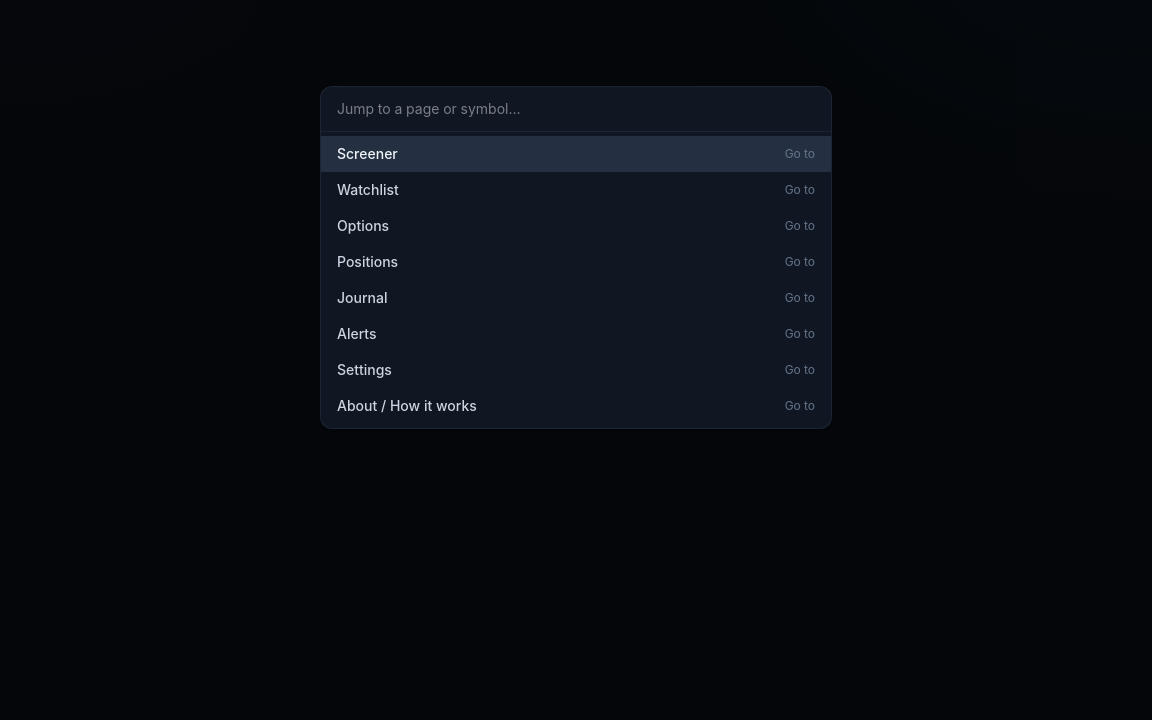
Test: CommandPalette › is hidden until opened, then filters nav items
The width and height of the screenshot is (1152, 720).
Type "posi" into the field with placeholder "Jump to a page or symbol…" at (576, 110), box left=321, top=87, right=831, bottom=132
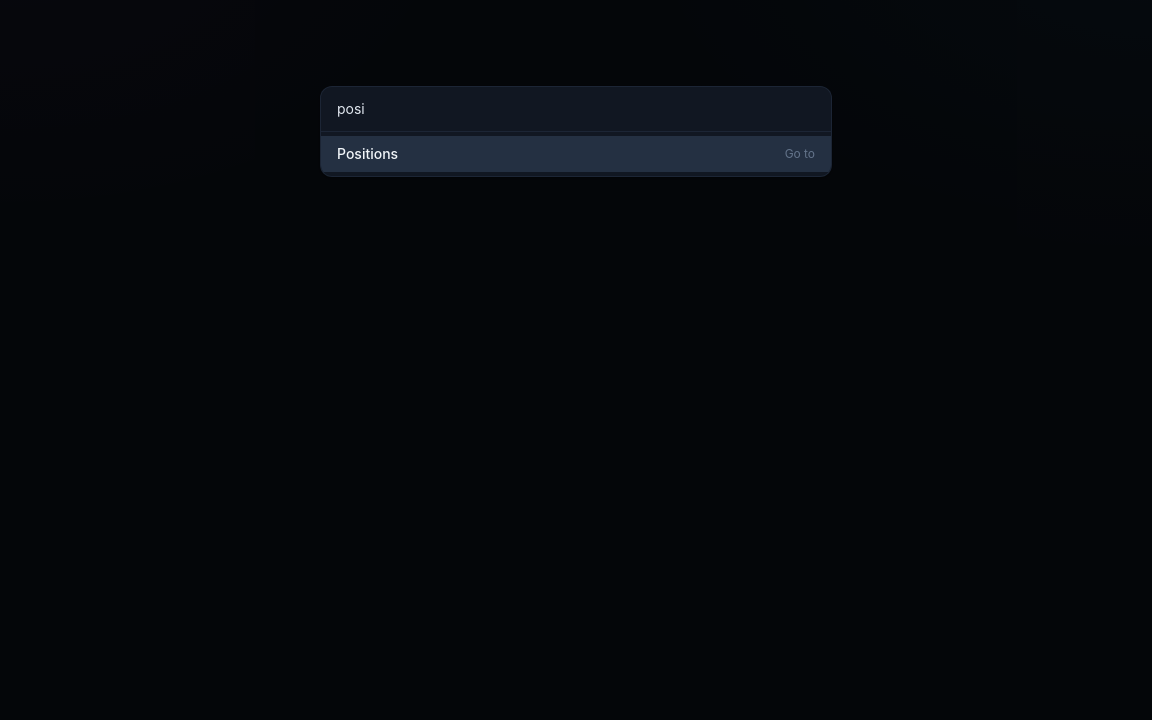
Expected: the text "Positions" is shown, left=337, top=144, right=398, bottom=164
Expected: the button "Screener" is gone
